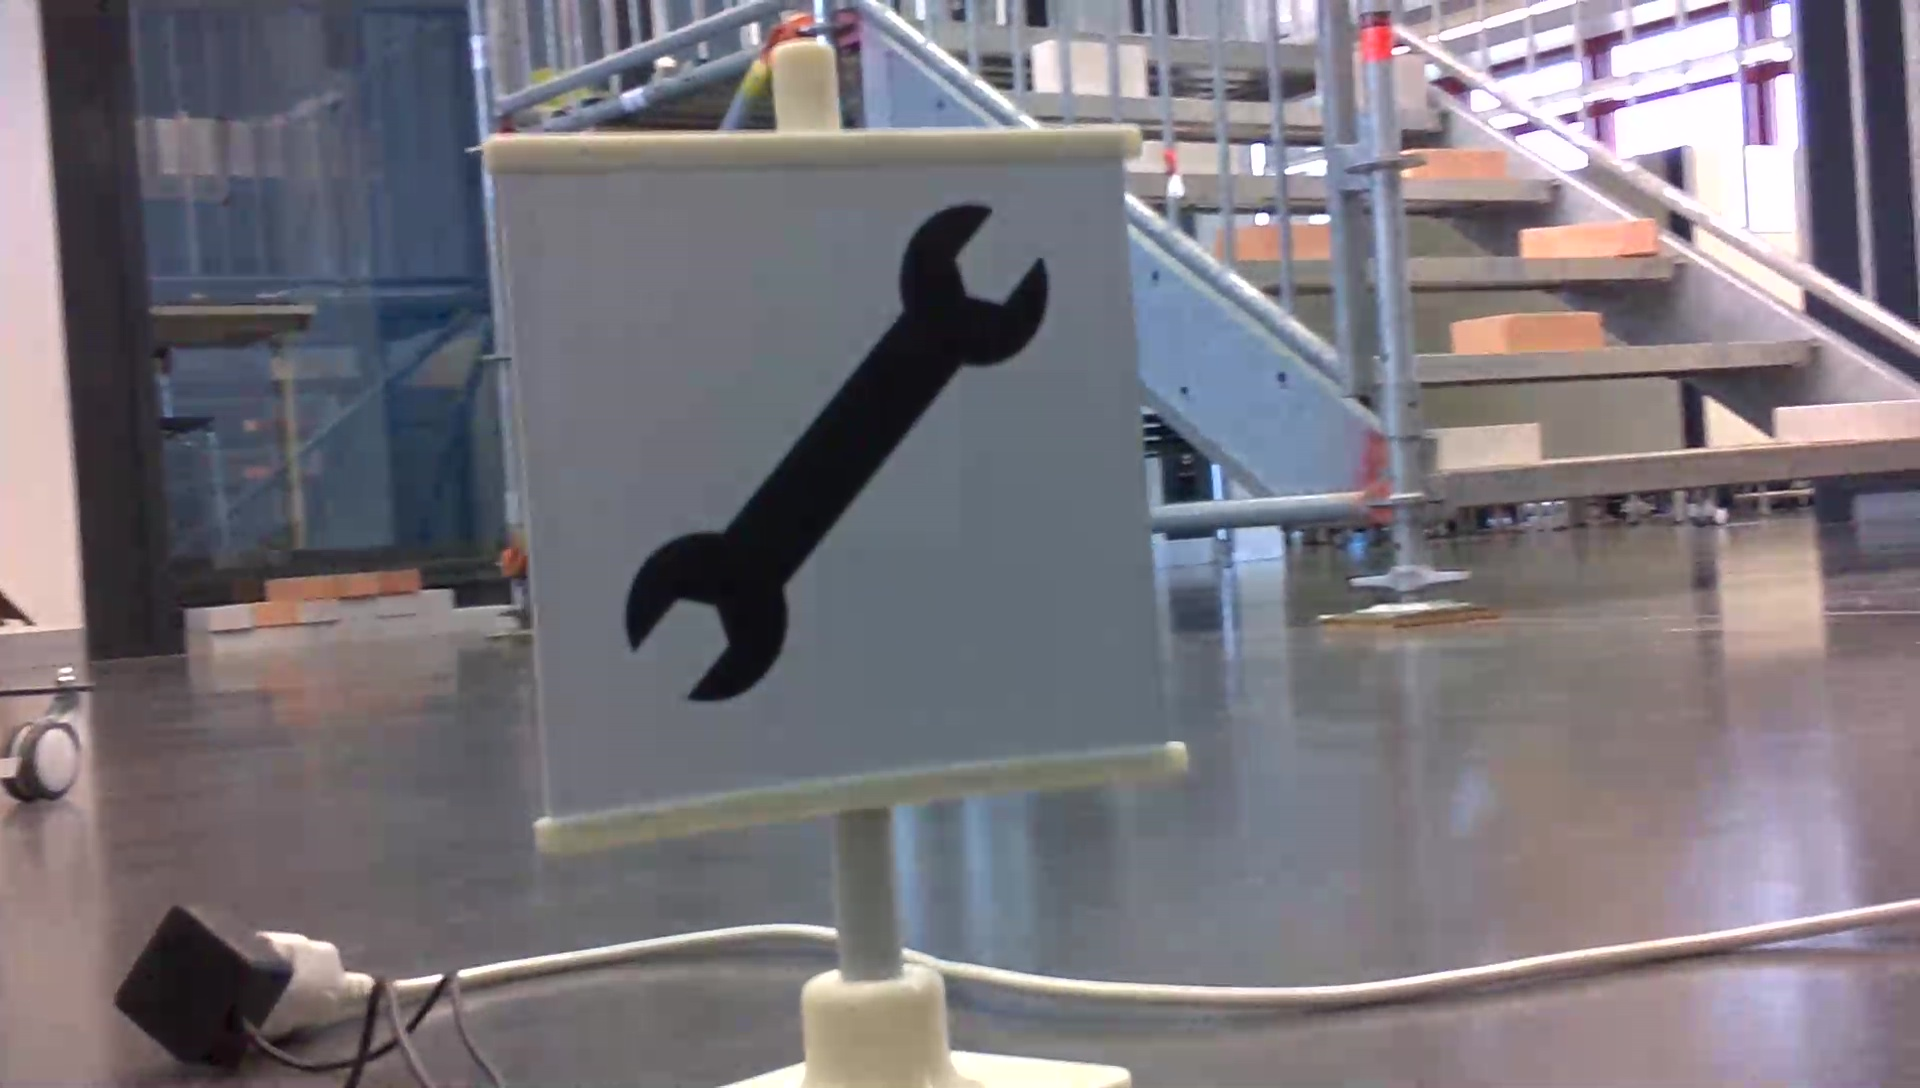brick: (1452, 313, 1600, 352), (1778, 402, 1920, 440), (1432, 422, 1538, 466), (1520, 223, 1654, 256), (1403, 148, 1505, 181), (1393, 55, 1425, 103)
edge: (1435, 443, 1917, 502), (1412, 335, 1825, 377), (1406, 253, 1685, 281)
wrench: (607, 196, 1060, 710)
